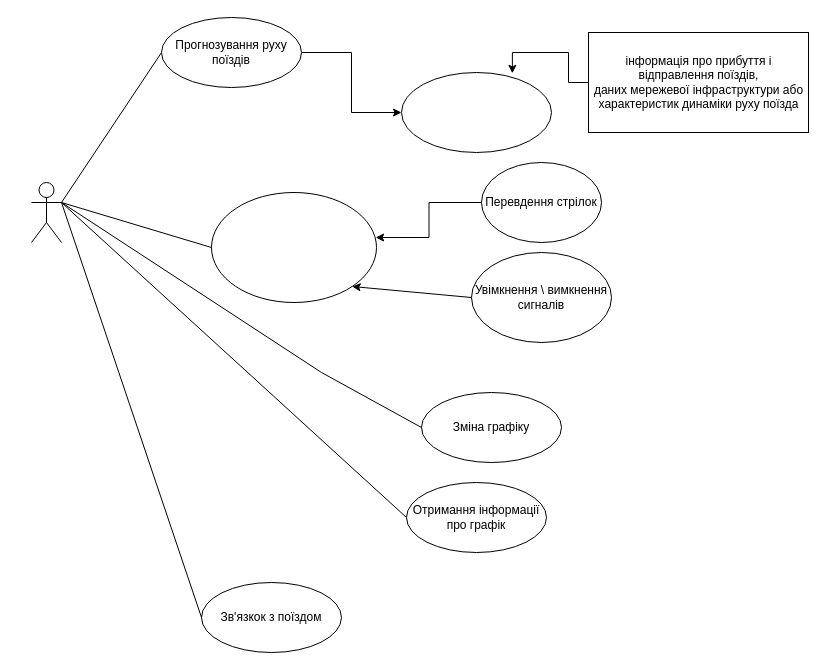
This 826x670 diagram has some shape labels left out. The shapes that lost their labels are listed below. From the top down, each one's centre as x and y in pixels, then its label:
(476,112): Збір інформації про рух поїздів
(46,212): Диспетчер
(293,247): Керування залізничною інфраструктурою
